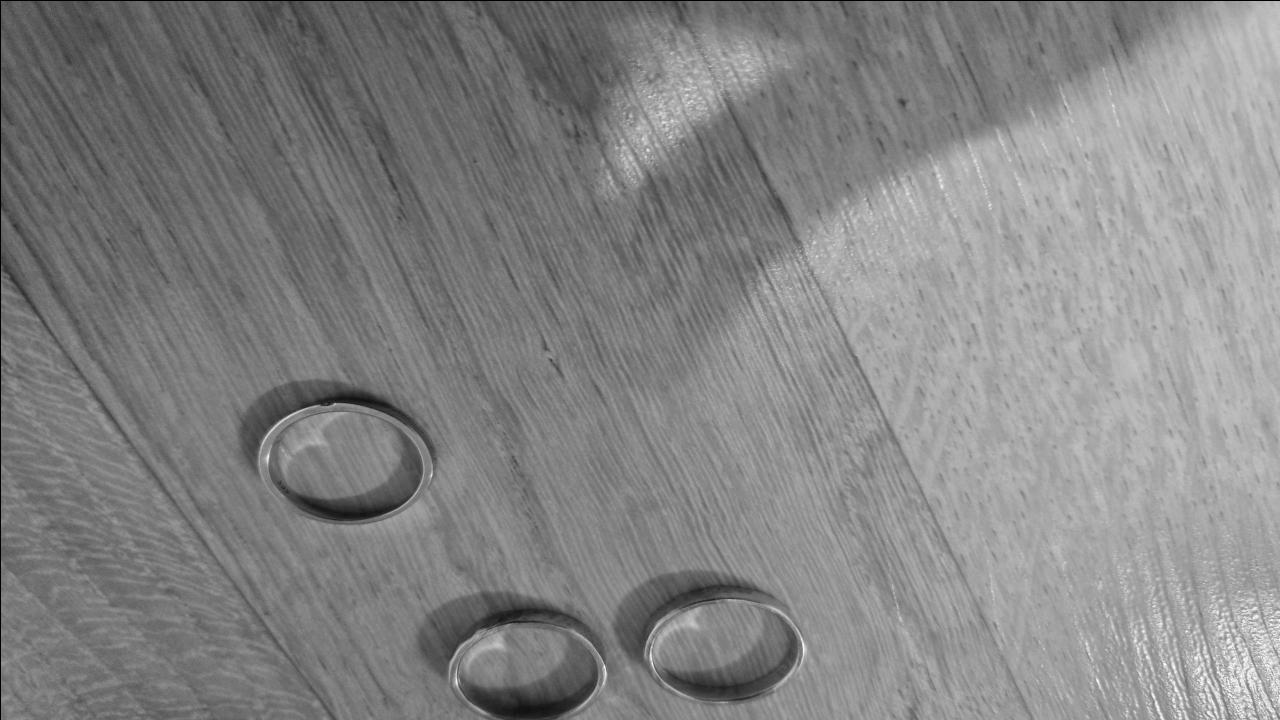ring: (254, 398, 433, 526), (640, 584, 808, 706), (448, 608, 608, 720)
